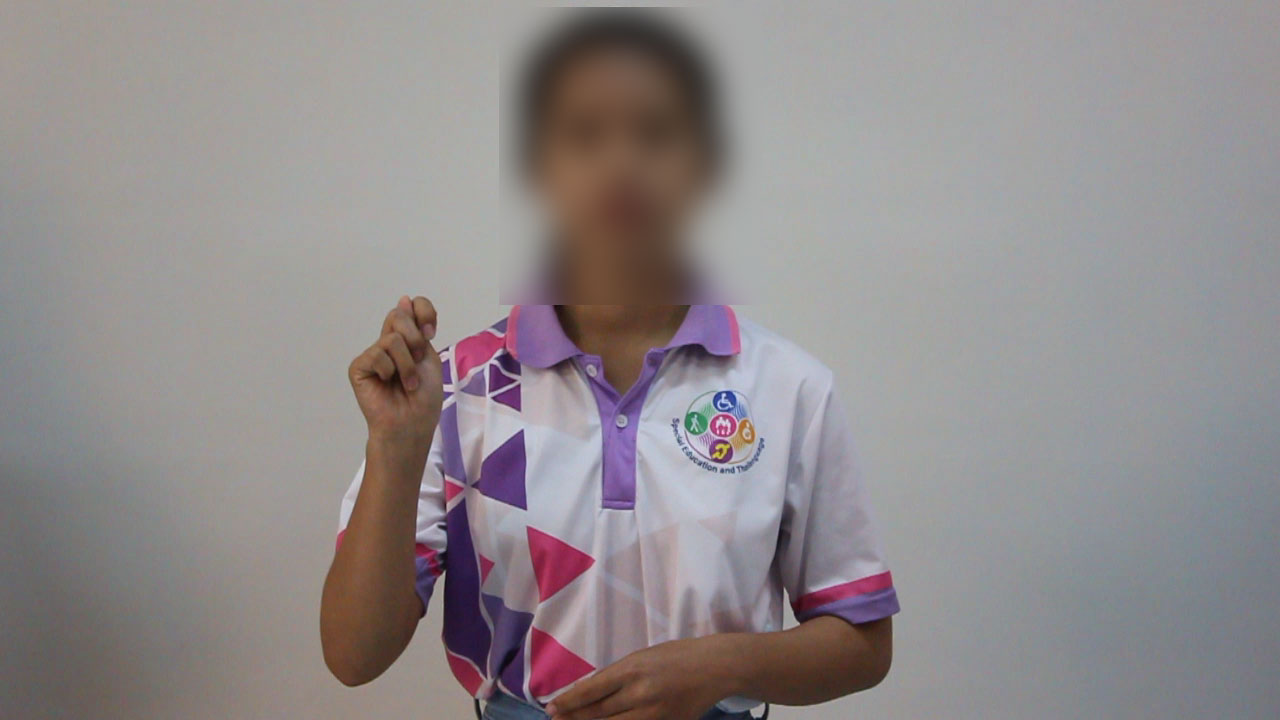tor: (326, 282, 483, 462)
